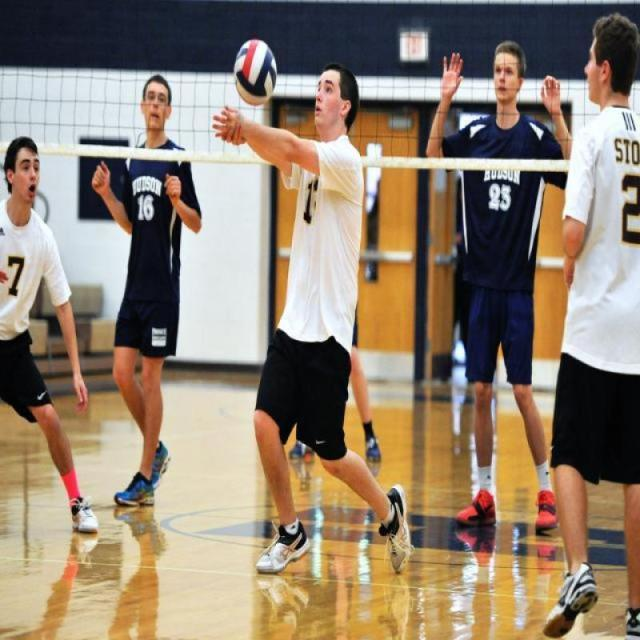volleyball: (232, 41, 277, 108)
